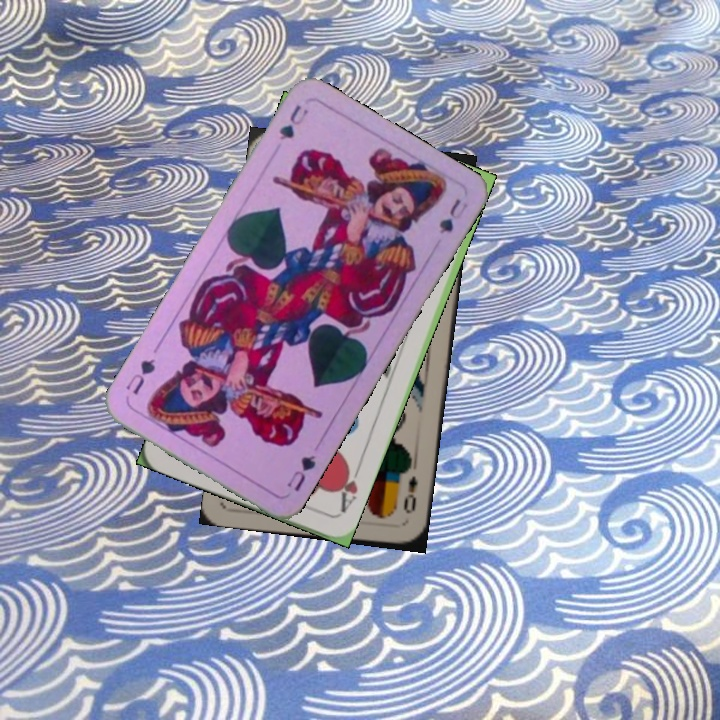EO: (399, 472, 420, 516)
GU: (282, 451, 319, 494), (275, 100, 311, 143)
HA: (333, 460, 364, 516)
